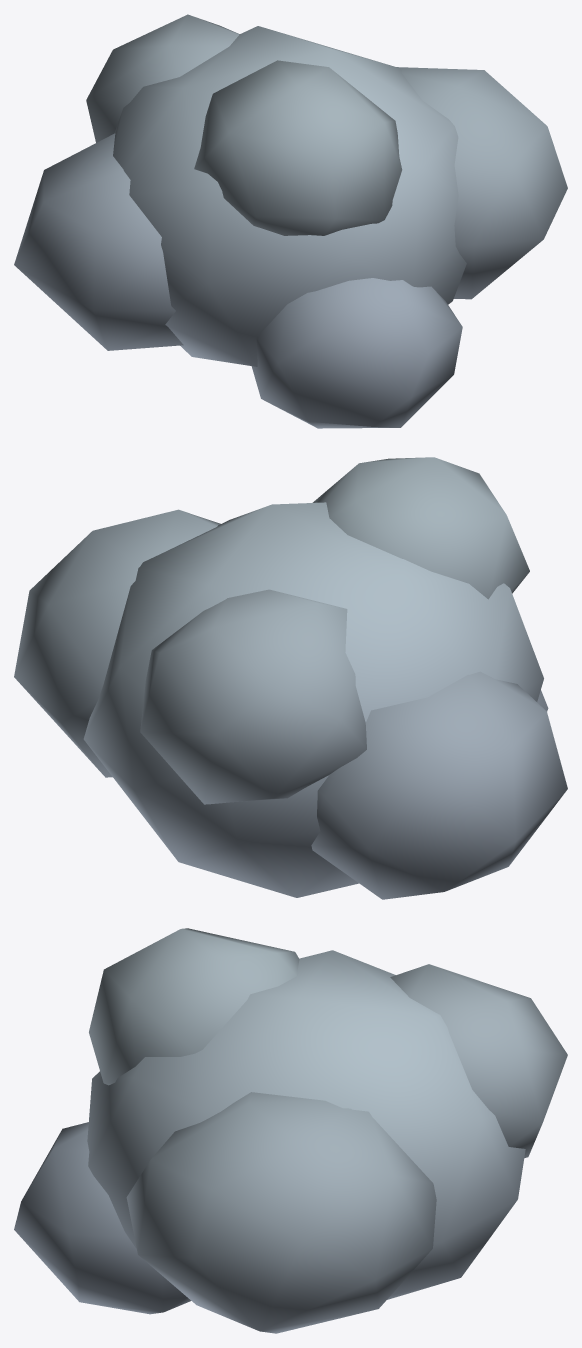
File: player-run-trail.fbx
The picture shows the model from 3 angles, top to bottom: view 1: azimuth 30°, elevation 25°; view 2: azimuth 150°, elevation 25°; view 3: azimuth 270°, elevation 25°; orthographic projection. The views are drawn at different scales.
Parts seen in each view (by area): view 1: Sphere.003; view 2: Sphere.003; view 3: Sphere.003.
Part boxes in pixels (x1,y1,x2,y2): Sphere.003: (14, 14, 567, 428); Sphere.003: (14, 457, 567, 899); Sphere.003: (14, 928, 567, 1333).
Bounding box in the file's own units: 131 × 87.63 × 124.
